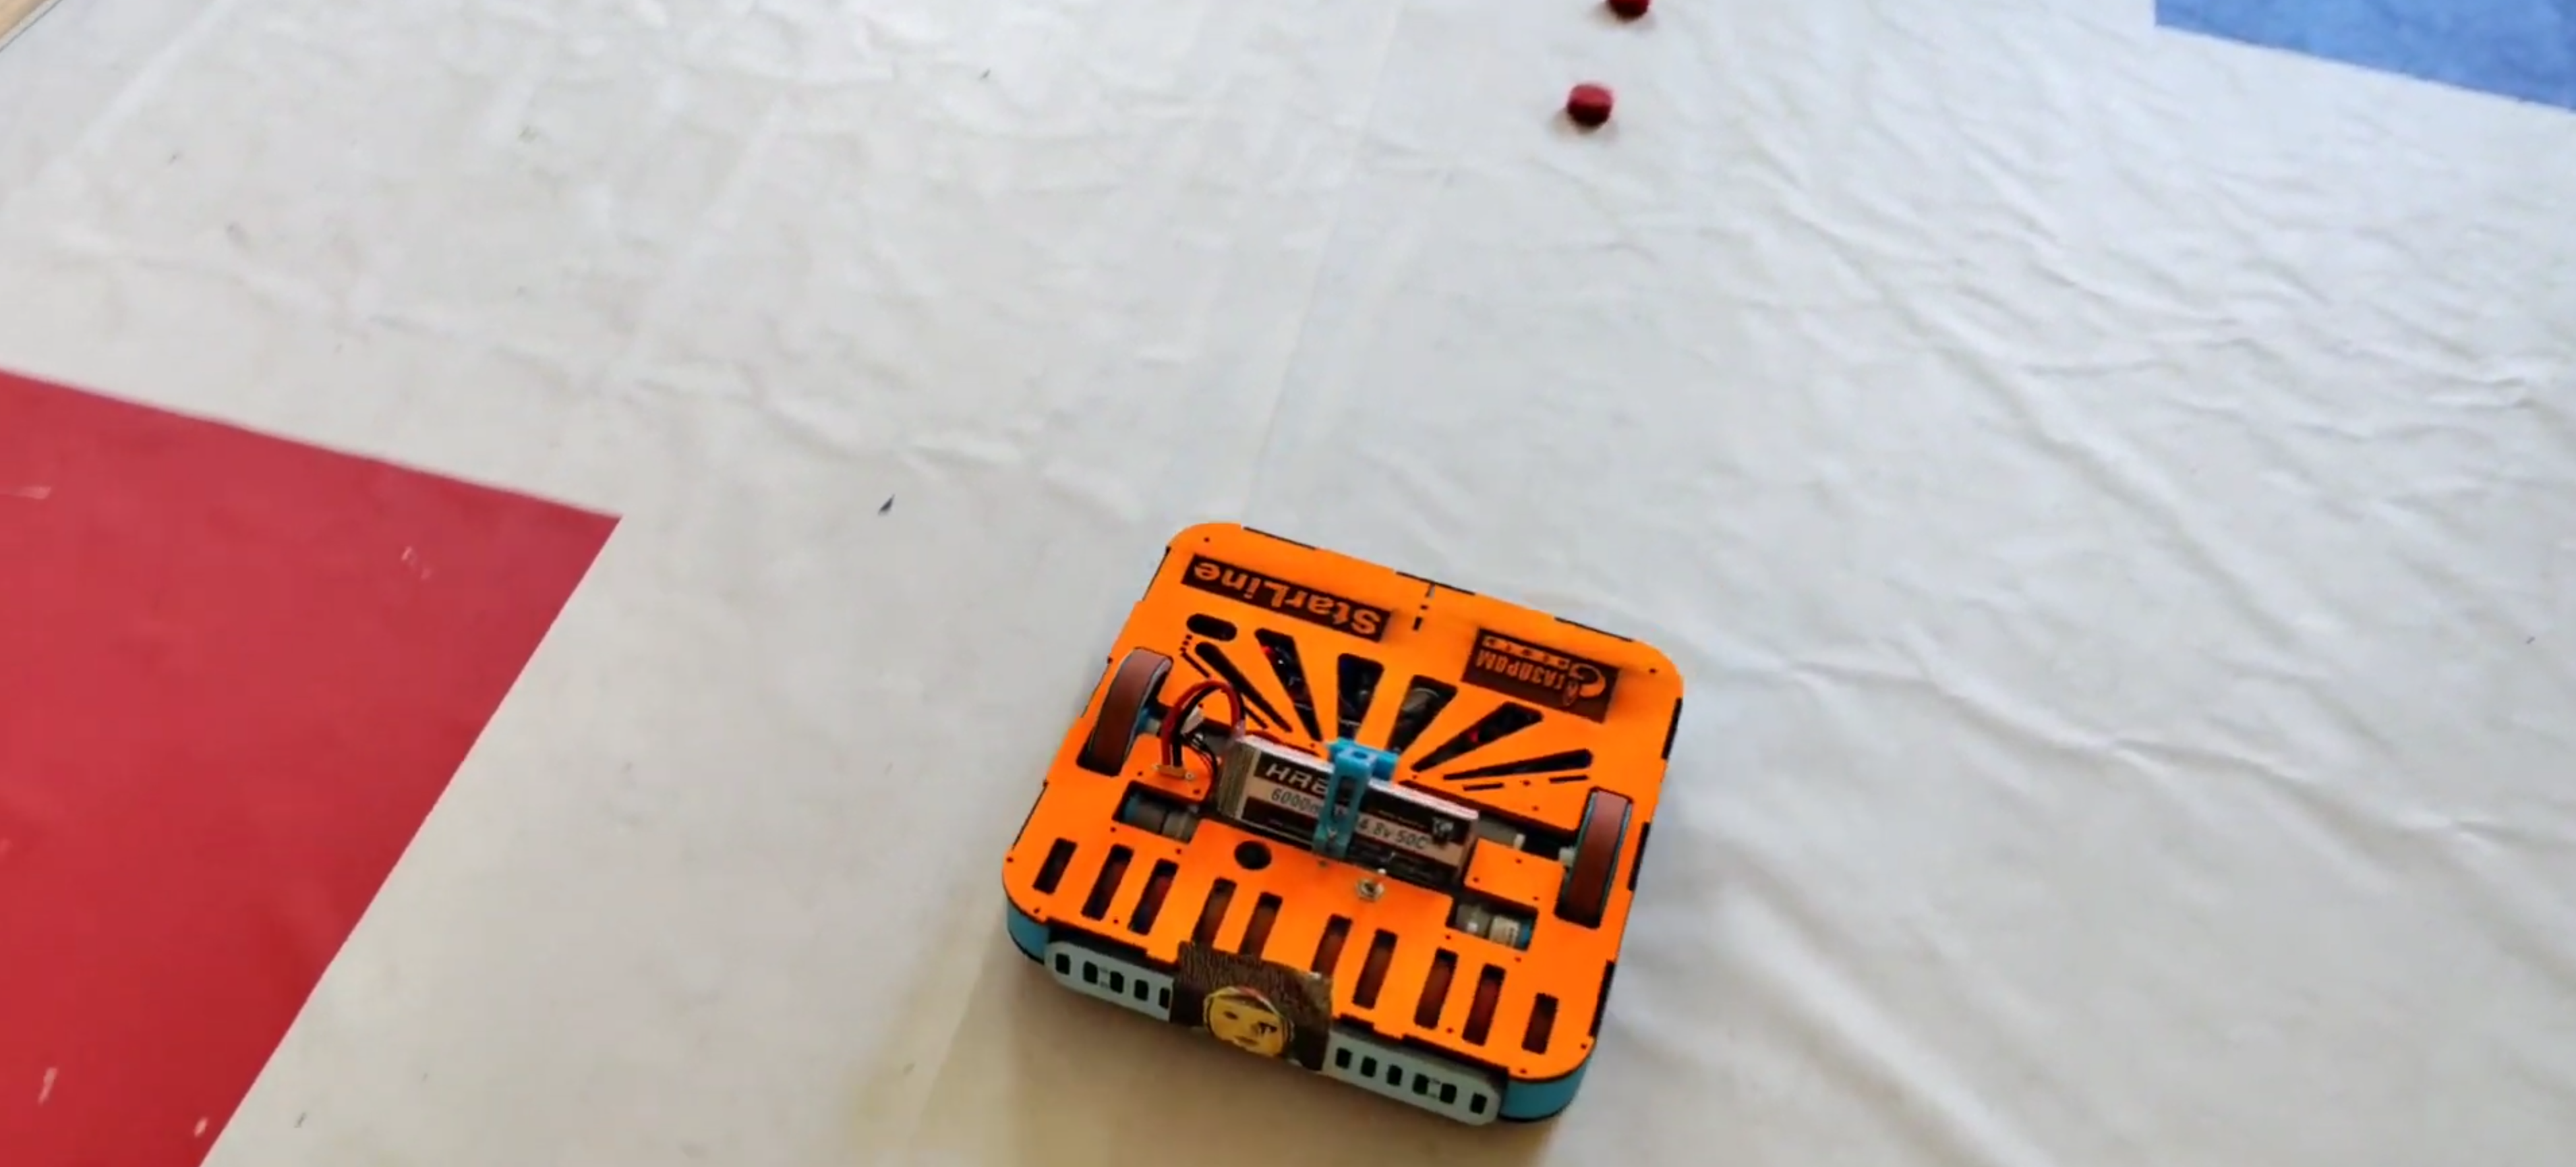red_puck: (1569, 76, 1612, 125)
